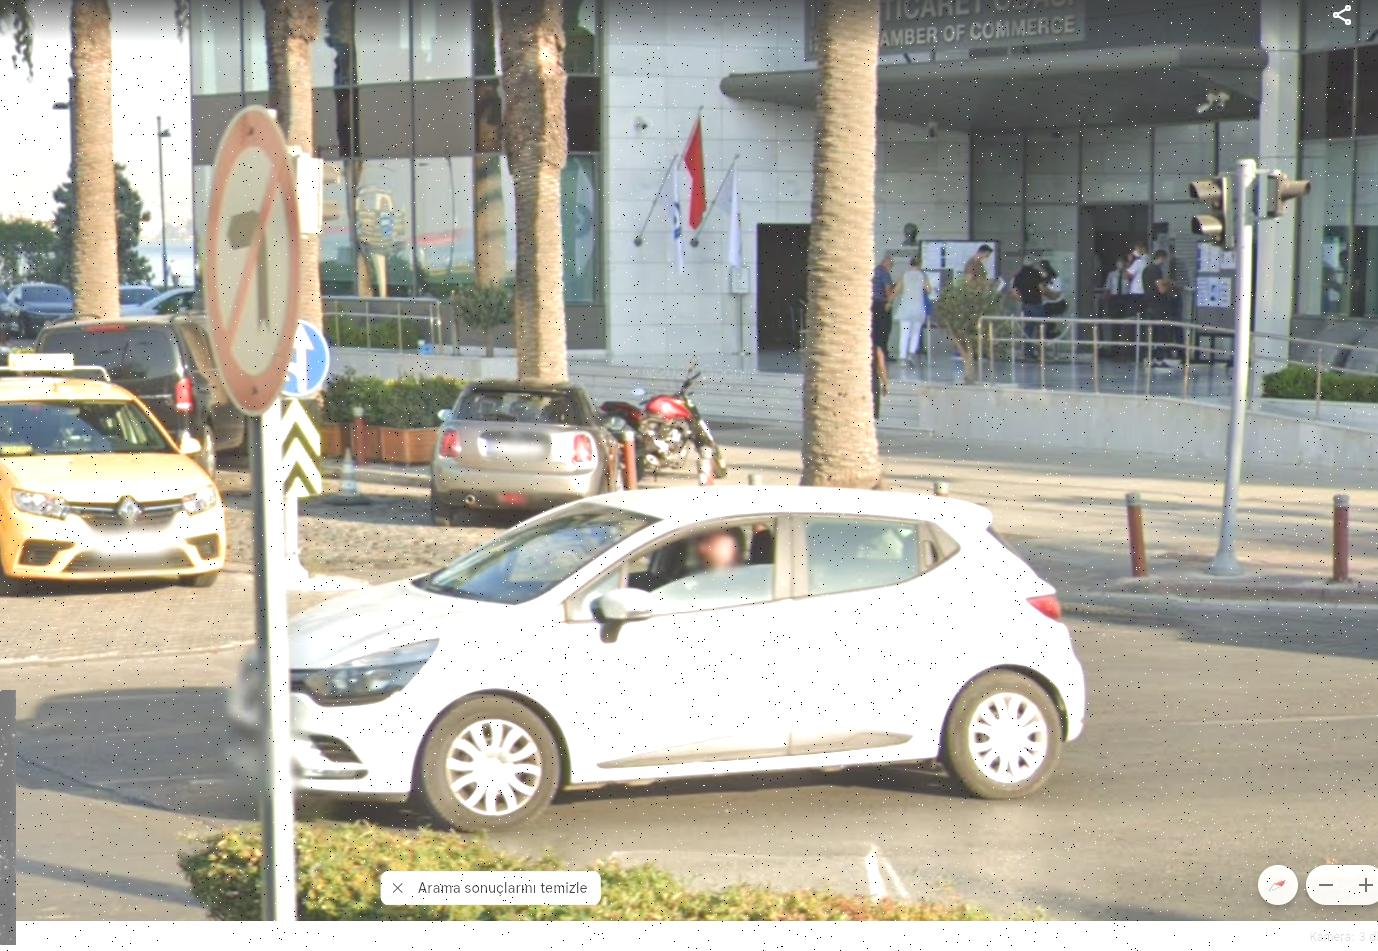leftturnsareforbidden: (200, 118, 293, 411)
